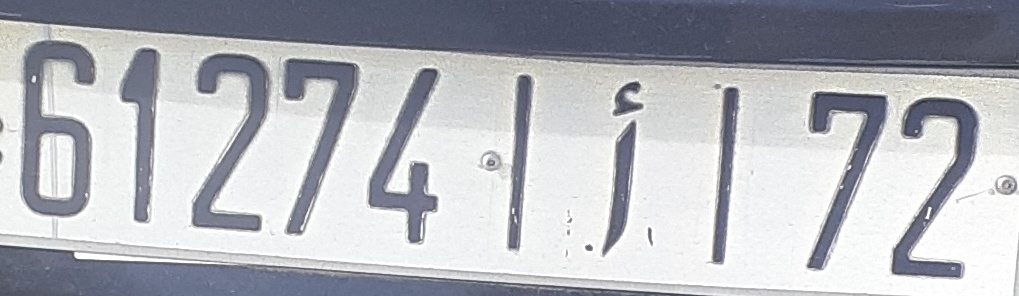1: (115, 44, 161, 227)
2: (889, 93, 984, 281), (187, 52, 272, 234)
4: (363, 62, 445, 244)
6: (19, 37, 95, 218)
7: (808, 89, 894, 272), (284, 52, 362, 240)
a: (597, 75, 650, 259)
